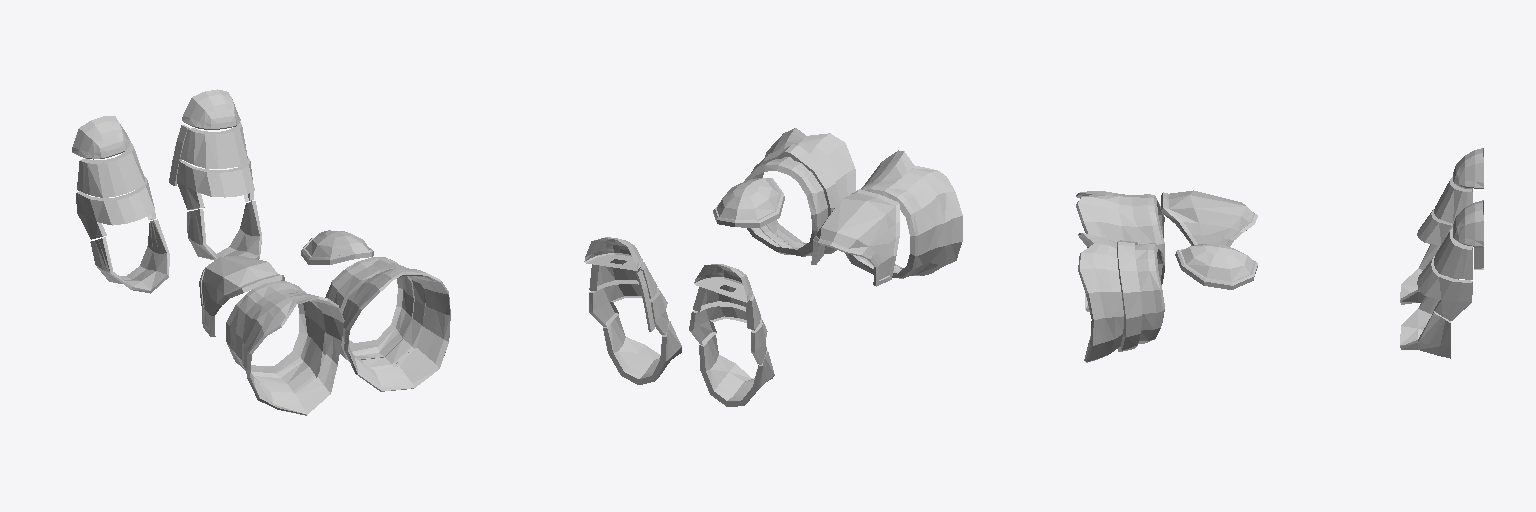
The model's file is initiatetacticsthigh.obj.
The picture shows the model from 3 angles: view 1: azimuth 30°, elevation 25°; view 2: azimuth 150°, elevation 25°; view 3: azimuth 270°, elevation 25°; orthographic projection.
Parts seen in each view (by area): view 1: UpperBody:1.005, UpperBody:1.030, UpperBody:1.004, UpperBody:1.040, UpperBody:1.012, UpperBody:1.006, UpperBody:1.017, UpperBody:1.021, UpperBody:1.011, UpperBody:1.013, UpperBody:1.014, UpperBody:1.043 (+4 smaller); view 2: UpperBody:1.005, UpperBody:1.030, UpperBody:1.017, UpperBody:1.011, UpperBody:1.040, UpperBody:1.014, UpperBody:1.004, UpperBody:1.043, UpperBody:1.021, UpperBody:1.013, UpperBody:1.038, UpperBody:1.006 (+4 smaller); view 3: UpperBody:1.030, UpperBody:1.005, UpperBody:1.017, UpperBody:1.011, UpperBody:1.038, UpperBody:1.040, UpperBody:1.006, UpperBody:1.016, UpperBody:1.013, UpperBody:1.012, UpperBody:1.021, UpperBody:1.043 (+3 smaller).
Boxes of the visible parts, x1=… form: UpperBody:1.005: x1=226, y1=281, x2=344, y2=415; UpperBody:1.030: x1=325, y1=257, x2=450, y2=391; UpperBody:1.004: x1=76, y1=176, x2=155, y2=239; UpperBody:1.040: x1=177, y1=158, x2=254, y2=209; UpperBody:1.012: x1=77, y1=143, x2=144, y2=197; UpperBody:1.006: x1=180, y1=122, x2=247, y2=168; UpperBody:1.017: x1=202, y1=256, x2=277, y2=329; UpperBody:1.021: x1=72, y1=116, x2=130, y2=159; UpperBody:1.011: x1=301, y1=230, x2=373, y2=264; UpperBody:1.013: x1=182, y1=89, x2=240, y2=129; UpperBody:1.014: x1=118, y1=221, x2=166, y2=290; UpperBody:1.043: x1=217, y1=201, x2=259, y2=258; UpperBody:1.005: x1=845, y1=150, x2=962, y2=278; UpperBody:1.030: x1=744, y1=128, x2=855, y2=256; UpperBody:1.017: x1=816, y1=193, x2=895, y2=279; UpperBody:1.011: x1=713, y1=178, x2=784, y2=227; UpperBody:1.040: x1=589, y1=282, x2=668, y2=334; UpperBody:1.014: x1=704, y1=335, x2=754, y2=400; UpperBody:1.004: x1=689, y1=305, x2=767, y2=364; UpperBody:1.043: x1=608, y1=315, x2=660, y2=378; UpperBody:1.021: x1=694, y1=264, x2=752, y2=302; UpperBody:1.013: x1=584, y1=237, x2=642, y2=270; UpperBody:1.038: x1=751, y1=144, x2=839, y2=255; UpperBody:1.006: x1=589, y1=259, x2=657, y2=298; UpperBody:1.030: x1=1078, y1=233, x2=1164, y2=362; UpperBody:1.005: x1=1076, y1=191, x2=1164, y2=311; UpperBody:1.017: x1=1169, y1=190, x2=1253, y2=244; UpperBody:1.011: x1=1175, y1=244, x2=1257, y2=289; UpperBody:1.038: x1=1117, y1=240, x2=1141, y2=351; UpperBody:1.040: x1=1417, y1=248, x2=1472, y2=320; UpperBody:1.006: x1=1434, y1=227, x2=1472, y2=279; UpperBody:1.016: x1=1400, y1=296, x2=1450, y2=358; UpperBody:1.013: x1=1453, y1=200, x2=1483, y2=246; UpperBody:1.012: x1=1434, y1=177, x2=1472, y2=221; UpperBody:1.021: x1=1453, y1=148, x2=1483, y2=188; UpperBody:1.043: x1=1400, y1=296, x2=1439, y2=345.
Size of the model in its own units: 31.24 by 22.91 by 54.3.